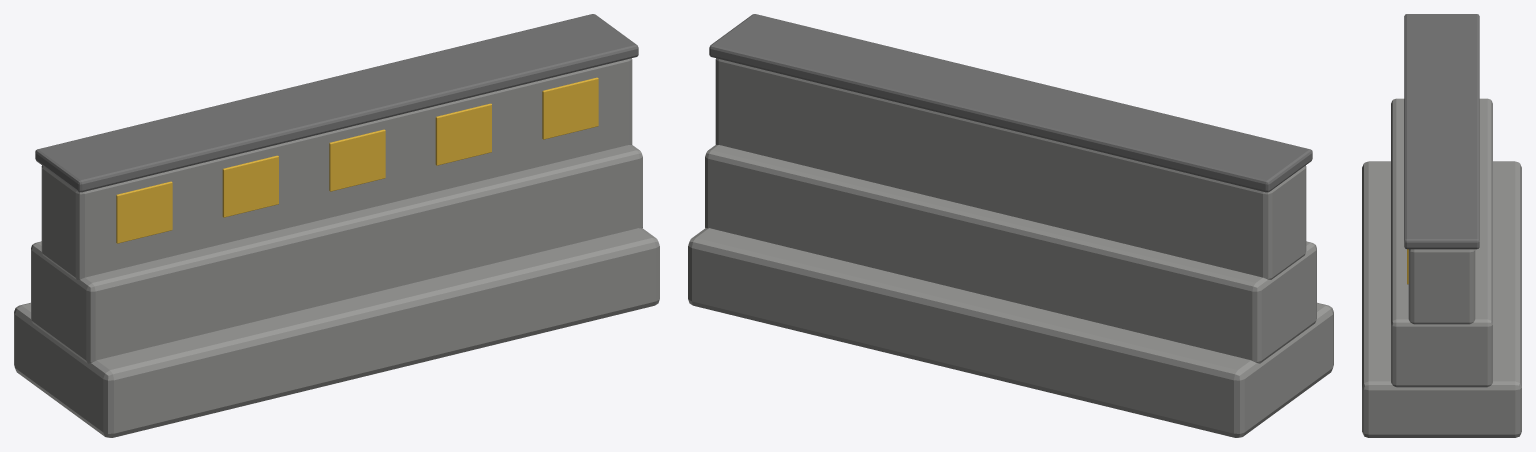
File: barrier.glb
3 renders of one model, left to right at view 1: azimuth 30°, elevation 25°; view 2: azimuth 150°, elevation 25°; view 3: azimuth 270°, elevation 25°, orthographic. The views are drawn at different scales.
Visible parts, largest first — view 1: barrier; view 2: barrier; view 3: barrier.
Part boxes in pixels (x1,y1,x2,y2): barrier: (14, 14, 659, 437); barrier: (688, 14, 1333, 437); barrier: (1362, 14, 1521, 437).
Size of the model in its own units: 2.42 by 1 by 0.72.
